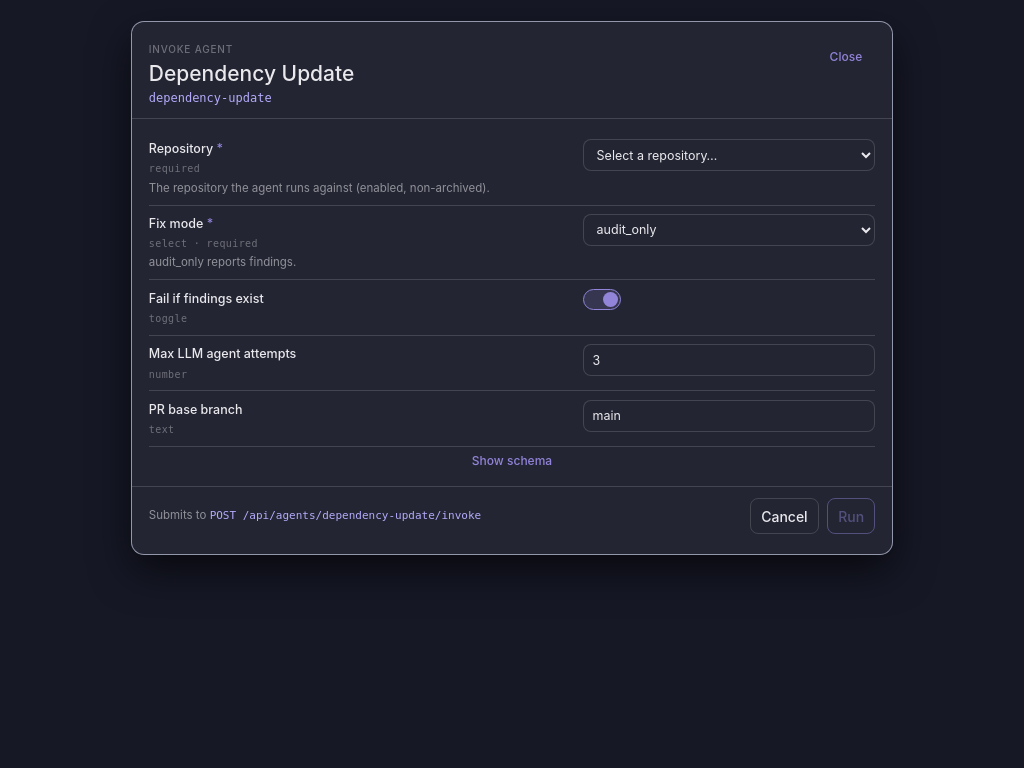
it: InvokeDialog — error rendering › client Ajv blocks an out-of-range value before any fetch (AC23)
Select "acme/web" in the dropdown labelled "Repository *". click: point(729, 155)
box: [583,139,875,171]
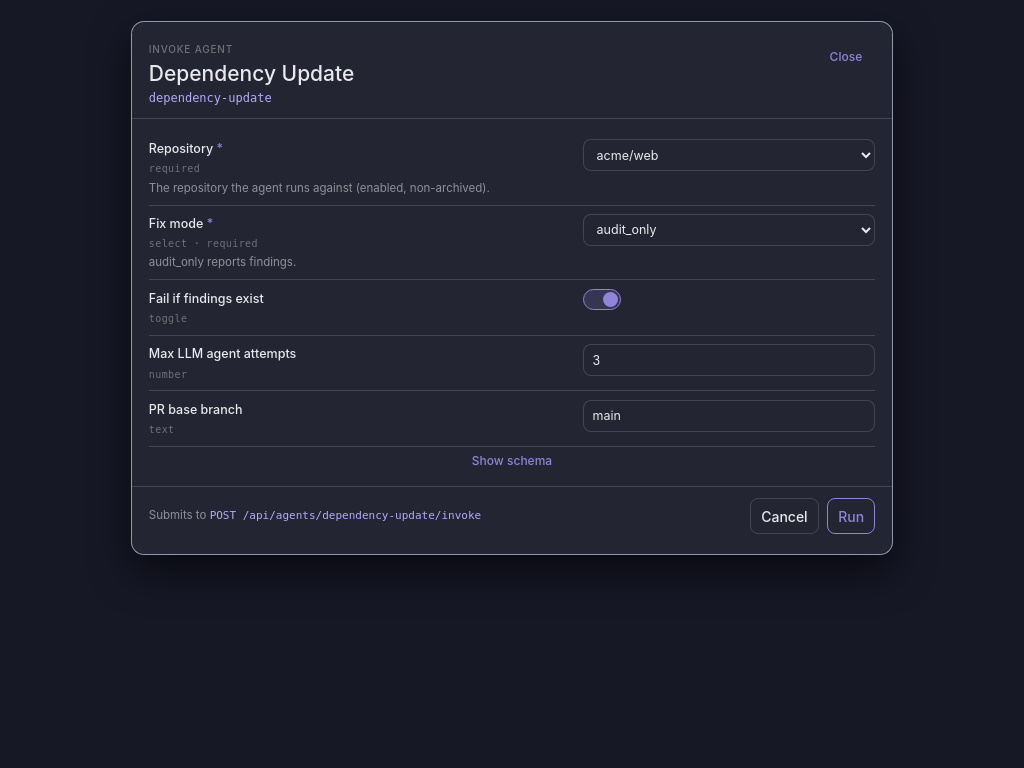
Replace the text in the number field labelled "Max LLM agent attempts" with "9". click: point(729, 360)
box: [583,344,875,376]
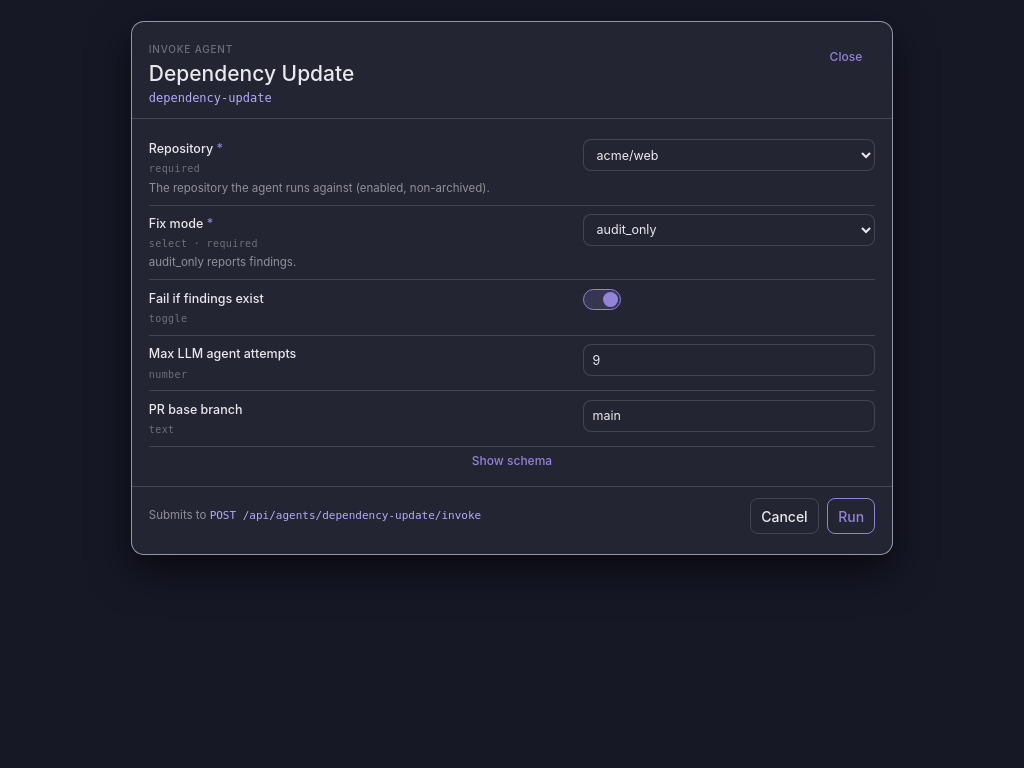
Click the button "Run". click: point(851, 516)
box: [827,498,875,534]
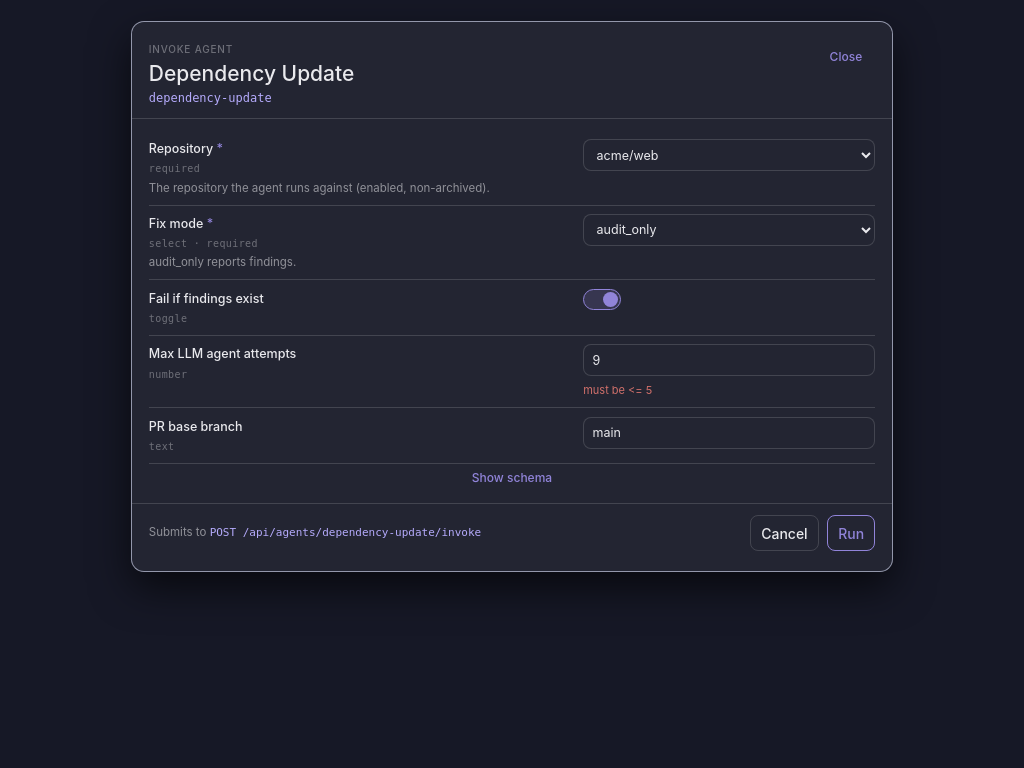
Now the text "must be <= 5" is shown, box [583,383,652,397]
